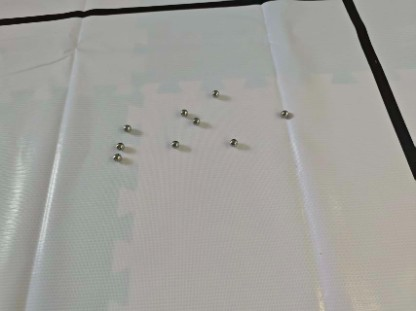ironball: (122, 123, 130, 131), (115, 141, 123, 149), (228, 138, 237, 145), (113, 153, 120, 161), (170, 140, 178, 147), (179, 108, 187, 115), (193, 116, 199, 124), (281, 110, 287, 117), (212, 89, 218, 95)
